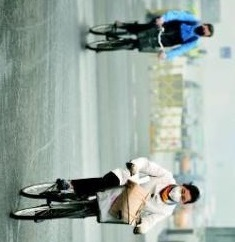person: (46, 157, 206, 230), (114, 9, 214, 57)
